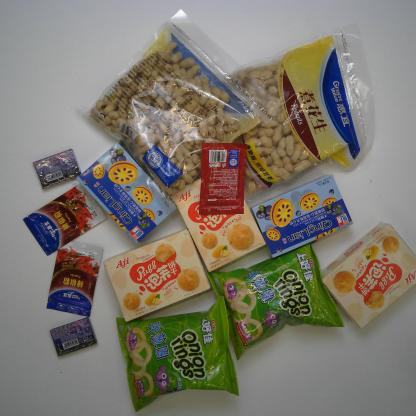Dessert: (75, 139, 179, 247), (102, 226, 212, 325), (169, 167, 267, 274), (321, 221, 416, 330), (251, 171, 355, 260)
Dried Food: (75, 6, 286, 202), (203, 21, 379, 206)
Gum: (47, 315, 99, 360), (30, 148, 82, 191)
Puffed Food: (208, 238, 344, 363), (114, 295, 242, 413)
Seasoner: (21, 179, 108, 258), (43, 236, 106, 319), (198, 138, 248, 216)
